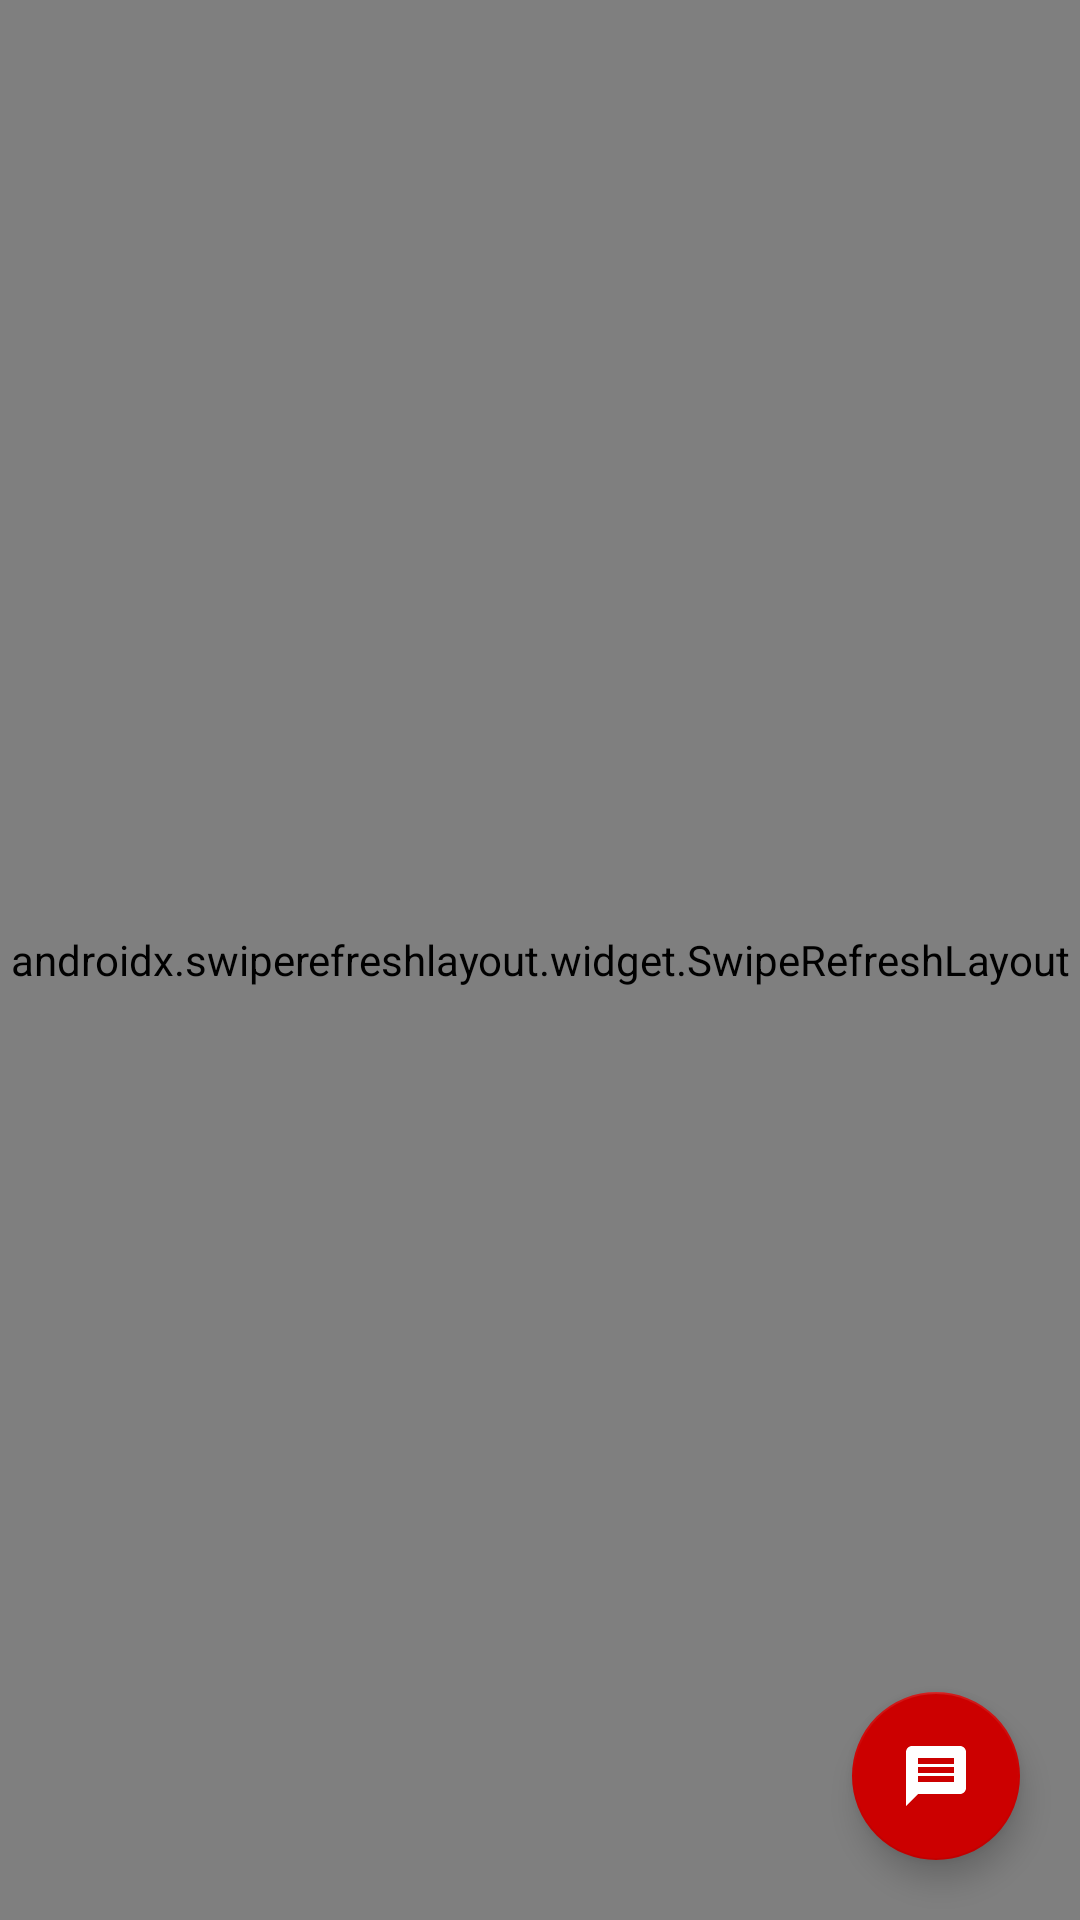

Named icons in this screenshot (1080w x 1920h) and their bounding boxes, [left=x1, top=y1, right=x2, bottom=y2]:
message: [left=852, top=1692, right=1020, bottom=1860]
